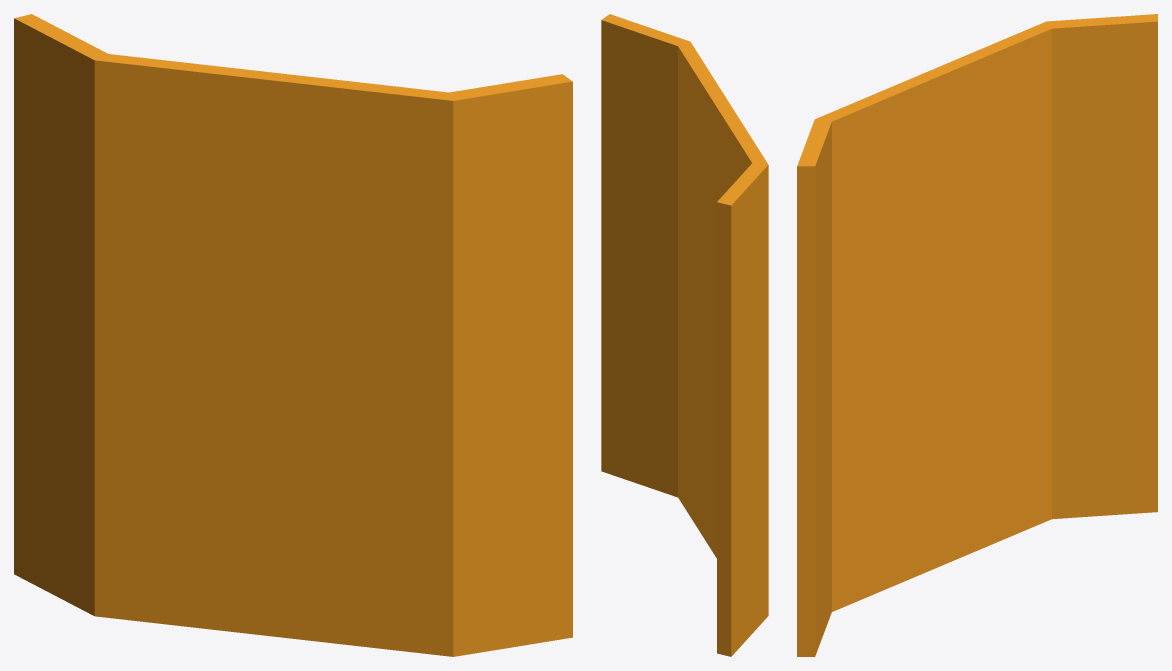
Rendered from SM_Buildings_WallChamfered_2x2_01.fbx.
3 renders of one model, left to right at view 1: azimuth 30°, elevation 25°; view 2: azimuth 150°, elevation 25°; view 3: azimuth 270°, elevation 25°, orthographic. The views are drawn at different scales.
Parts seen in each view (by area): view 1: SM_Buildings_WallChamfered_2x2_01; view 2: SM_Buildings_WallChamfered_2x2_01; view 3: SM_Buildings_WallChamfered_2x2_01.
Part boxes in pixels (x1,y1,x2,y2): SM_Buildings_WallChamfered_2x2_01: [14, 14, 572, 656]; SM_Buildings_WallChamfered_2x2_01: [601, 14, 768, 656]; SM_Buildings_WallChamfered_2x2_01: [797, 14, 1157, 656].
Bounding box in the file's own units: 200 × 300 × 200.
